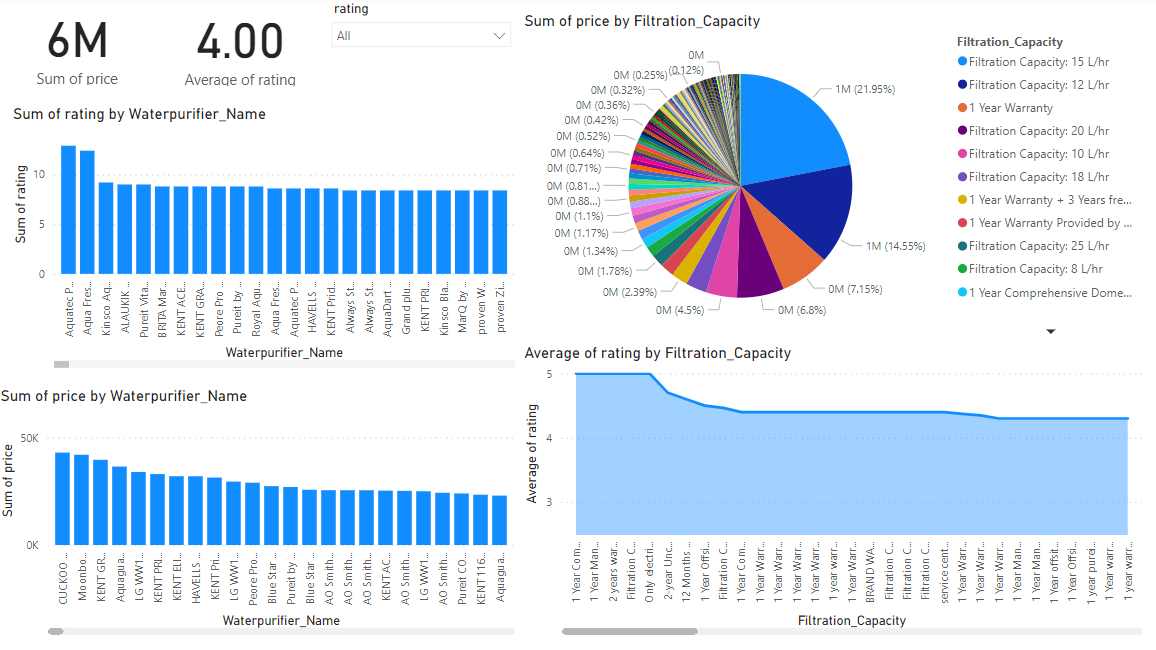

Layout of this report page (visuals, bound fields, positions):
{"tool":"powerbi","page":{"name":"Page 5","canvas":[1280,720],"ordinal":4},"visuals":[{"type":"card","fields":{"Values":["Sum(parag.price)"]},"box":[0,0,178.4,102.9],"z":0},{"type":"card","fields":{"Values":["Avg(parag.rating)"]},"box":[178.4,1.4,179.8,102.9],"z":1000},{"type":"slicer","fields":{"Values":["parag.rating"]},"box":[358.1,0,216.8,102.9],"z":1001},{"type":"clusteredColumnChart","fields":{"Category":["parag.Waterpurifier_Name"],"Y":["Sum(parag.rating)"]},"box":[13.7,119.4,561.2,293.7],"z":1002},{"type":"clusteredColumnChart","fields":{"Category":["parag.Waterpurifier_Name"],"Y":["Sum(parag.price)"]},"box":[0,428.1,575,292.3],"z":1003},{"type":"pieChart","fields":{"Y":["Sum(parag.price)"],"Category":["parag.Filtration_Capacity"]},"box":[575,16.5,688.9,365],"z":1004},{"type":"areaChart","fields":{"Category":["parag.Filtration_Capacity"],"Y":["Avg(parag.rating)"]},"box":[575,381.5,688.9,338.9],"z":1005}]}

Visuals, with their boxes in screenshot pixels (x1, y1, x2, y2), scaled from the page's 1280x720 canvas onto the 1156x650 screenshot:
card - Sum(parag.price): detection(0, 0, 161, 93)
card - Avg(parag.rating): detection(161, 1, 323, 94)
slicer - parag.rating: detection(323, 0, 519, 93)
clusteredColumnChart - parag.Waterpurifier_Name x Sum(parag.rating): detection(12, 108, 519, 373)
clusteredColumnChart - parag.Waterpurifier_Name x Sum(parag.price): detection(0, 386, 519, 649)
pieChart - Sum(parag.price) x parag.Filtration_Capacity: detection(519, 15, 1141, 344)
areaChart - parag.Filtration_Capacity x Avg(parag.rating): detection(519, 344, 1141, 649)
